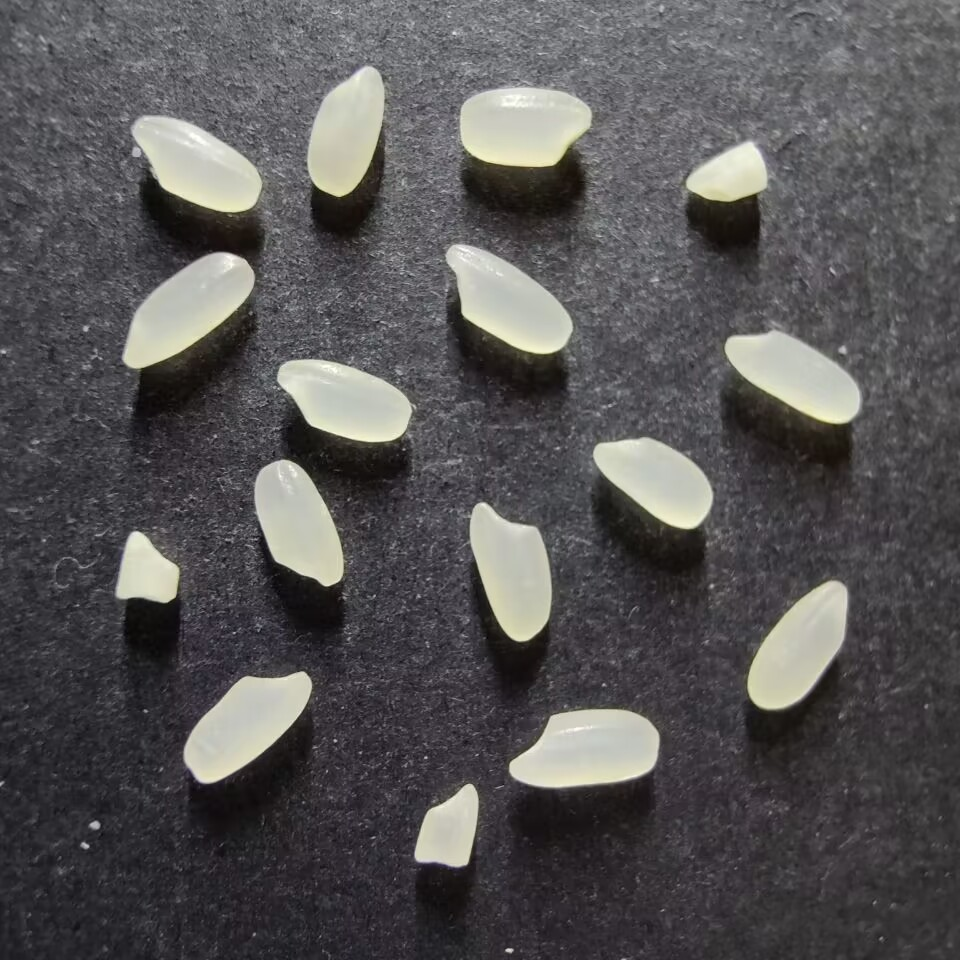broken: (413, 783, 479, 867), (684, 142, 767, 202), (114, 531, 179, 603)
rice: (121, 251, 254, 369), (182, 670, 313, 784), (445, 244, 573, 354), (746, 579, 849, 710), (723, 330, 860, 425), (131, 115, 261, 212), (508, 708, 659, 788), (468, 502, 552, 642), (253, 459, 343, 587), (276, 358, 411, 442), (592, 437, 713, 530), (458, 86, 591, 168), (305, 64, 385, 197)
